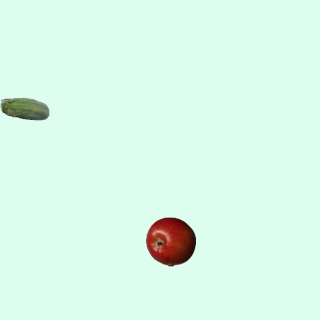Apple Braeburn: (145, 216, 195, 266)
Corn Husk: (0, 85, 49, 135)
